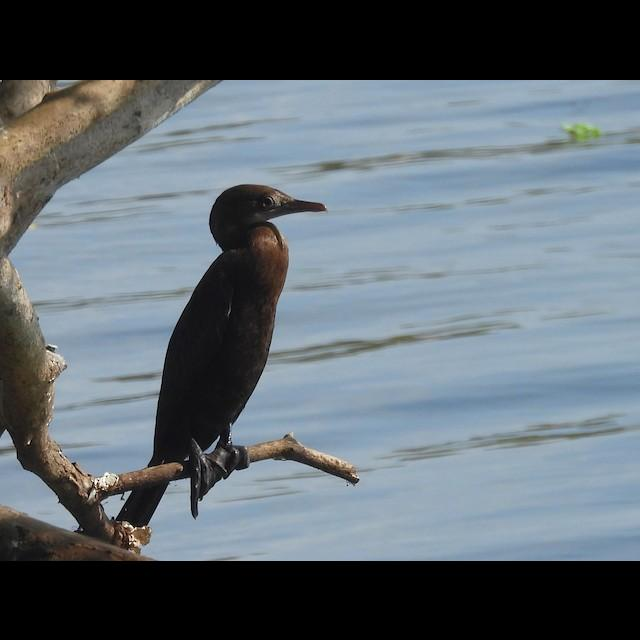cormorant: (133, 181, 325, 519)
